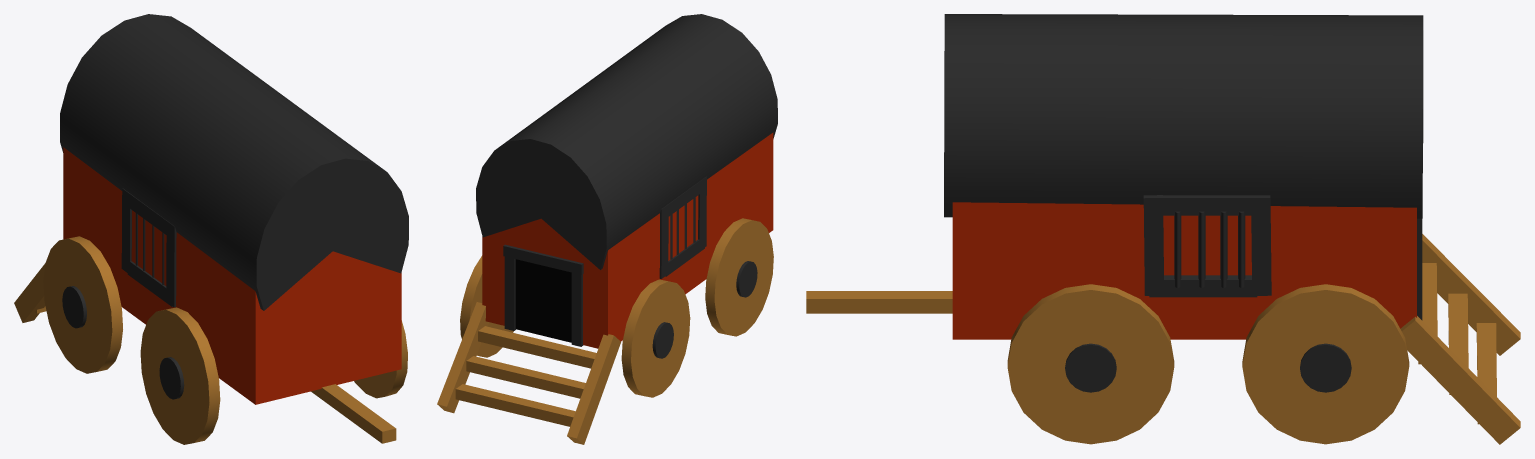
Rendered from Freak Cart.fbx.
3 renders of one model, left to right at view 1: azimuth 30°, elevation 25°; view 2: azimuth 150°, elevation 25°; view 3: azimuth 270°, elevation 25°, orthographic. The views are drawn at different scales.
Visible parts, largest first — view 1: pCylinder18; view 2: pCylinder18; view 3: pCylinder18.
Boxes of the visible parts, x1=… form: pCylinder18: x1=14, y1=14, x2=408, y2=444; pCylinder18: x1=437, y1=14, x2=777, y2=444; pCylinder18: x1=806, y1=14, x2=1520, y2=444.
Size of the model in its own units: 14.91 by 21.33 by 36.84.
